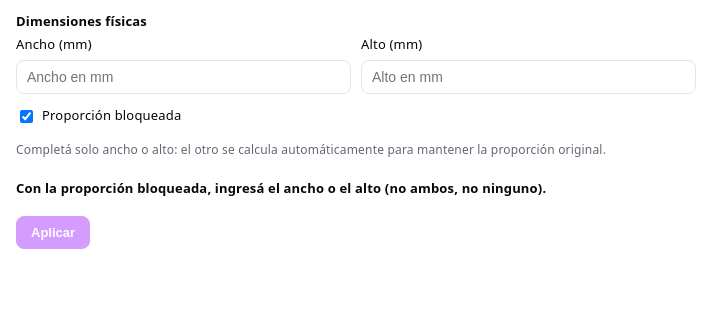
DimensionPanel — errores controlados › un error controlado de la Web API se muestra sin romper el panel
The width and height of the screenshot is (713, 325).
Type "100" into the number field labelled "Ancho (mm)" at {"x": 184, "y": 77}, box [16, 60, 351, 94]
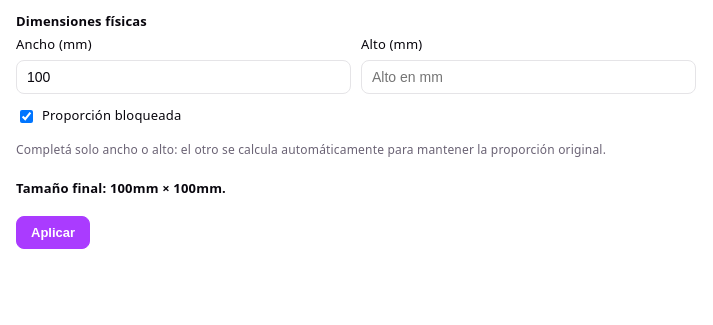
Click the button "Aplicar" at {"x": 53, "y": 232}, box [16, 216, 90, 249]
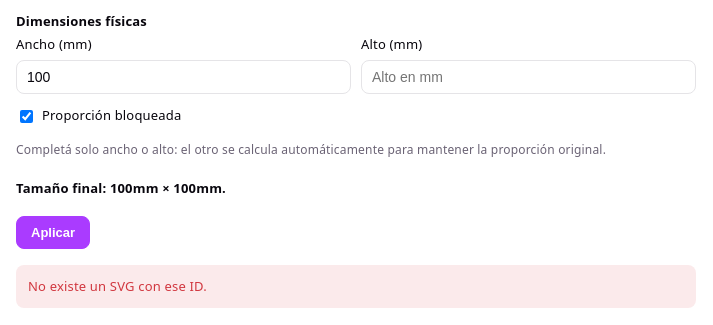
Result: the button "Aplicar" is enabled at [16, 216, 90, 249]
Result: the message reads "No existe un SVG con ese ID." at [28, 277, 207, 295]
